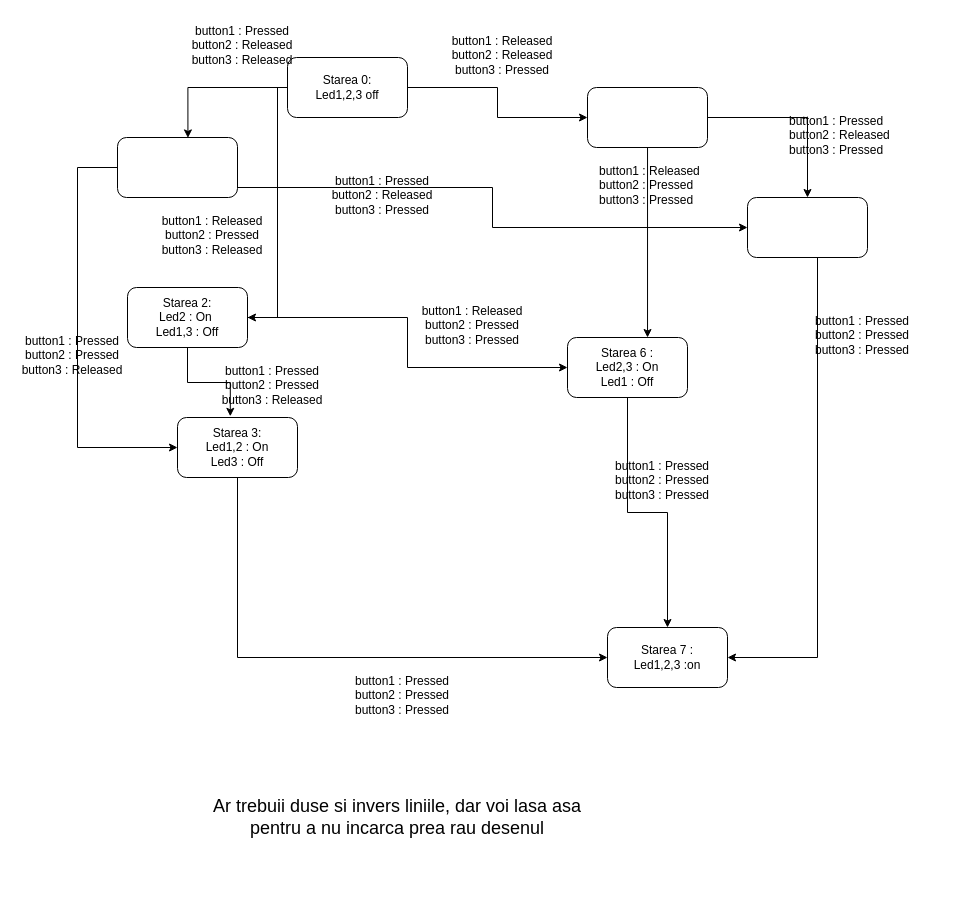
Some shapes in this 974 by 904 pixel diagram are drawn without their labels. Each missing label, with the centre of its shape:
"Stare 5 : Led1,3 : On Led 2 : Off" goes at (x=807, y=227).
"Starea 1: Led 1 : On Led 2,3 : Off" goes at (x=177, y=167).
"Starea 4: Led3 : On Led1,2 :Off" goes at (x=647, y=117).
